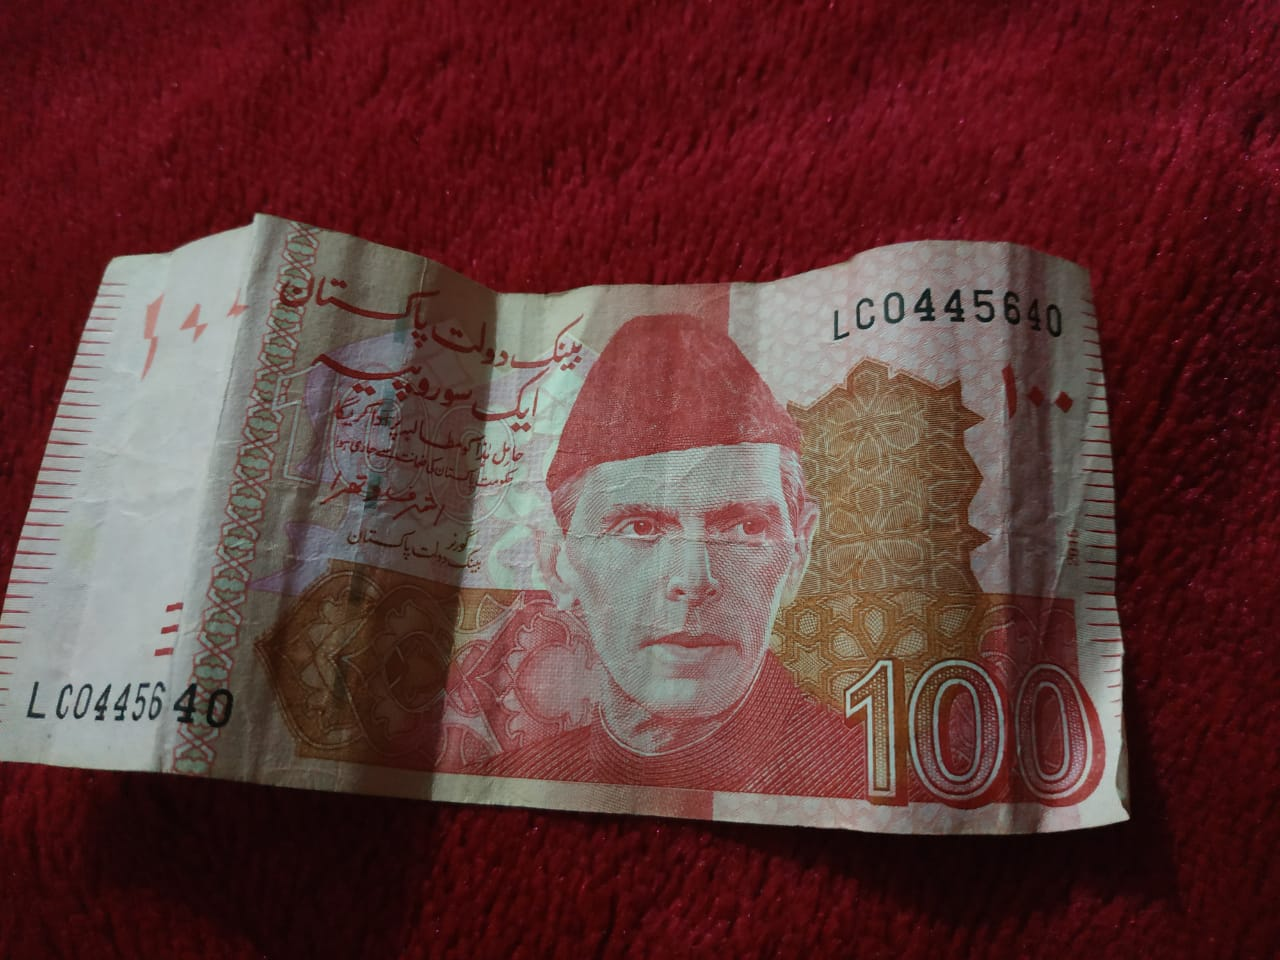100 rupee: (29, 210, 1196, 903)
